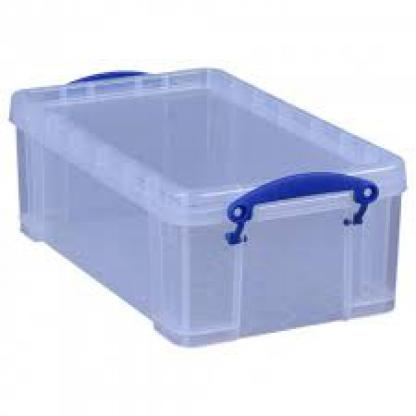plastic_box: (2, 52, 410, 373)
